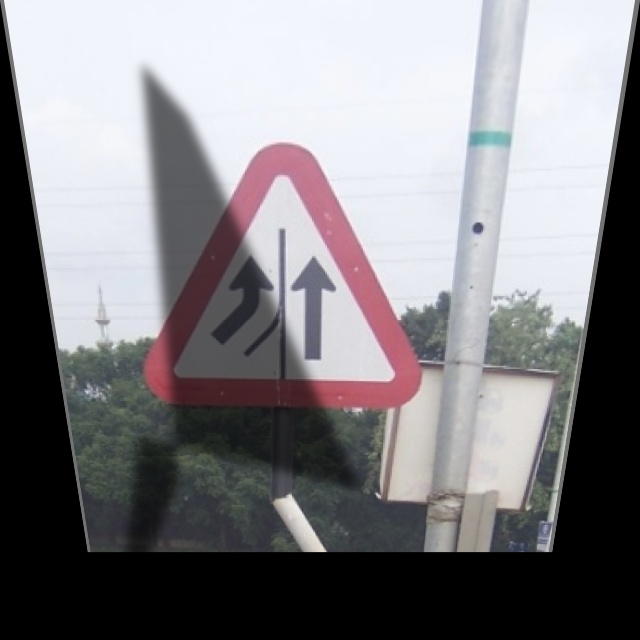Merge_Traffic_Ahead: (114, 137, 445, 421)
